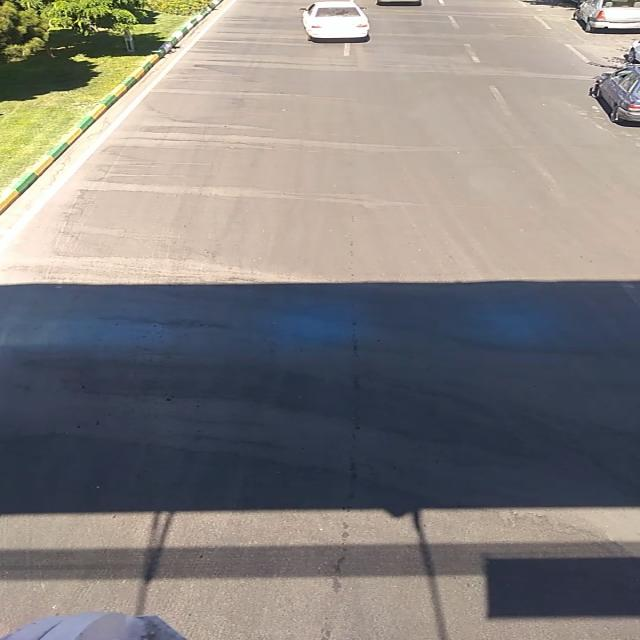car: (592, 64, 639, 127), (300, 2, 370, 38), (582, 1, 638, 34)
